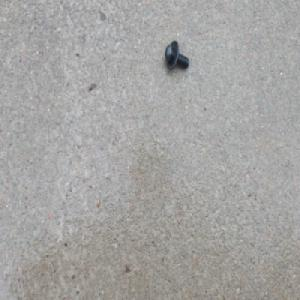BoltWasher: (163, 38, 188, 71)
